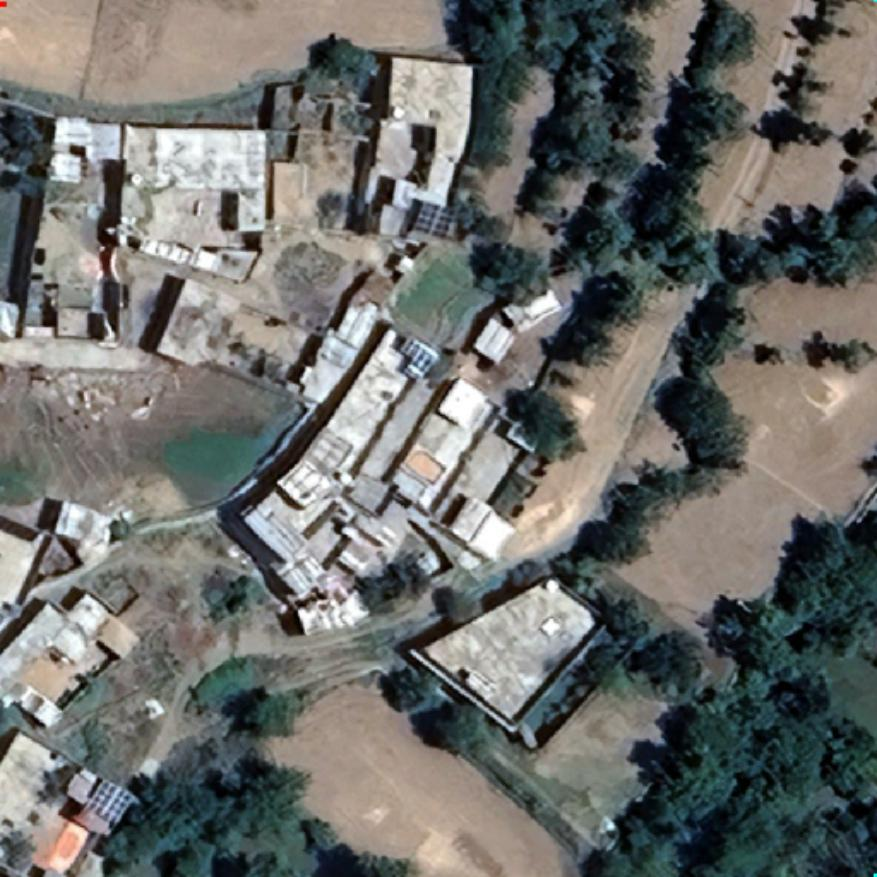Solarpanel: (87, 778, 133, 826), (396, 333, 442, 379), (413, 199, 457, 239)
